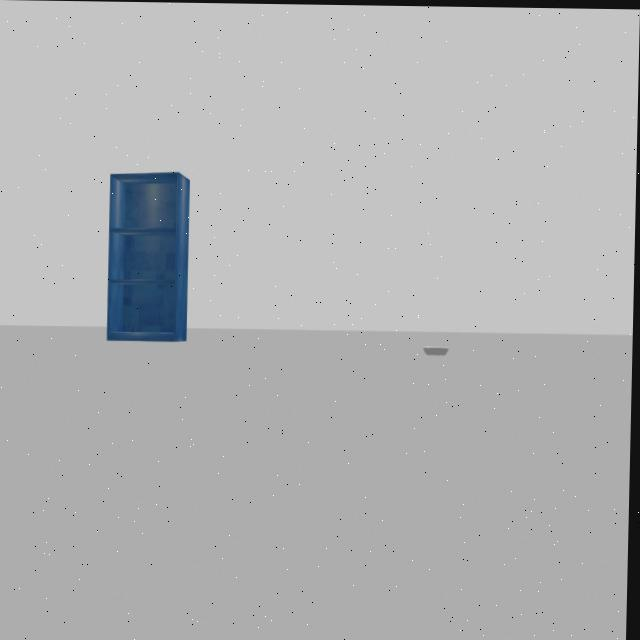bowl: (422, 337, 459, 357)
shelf: (101, 155, 199, 360)
